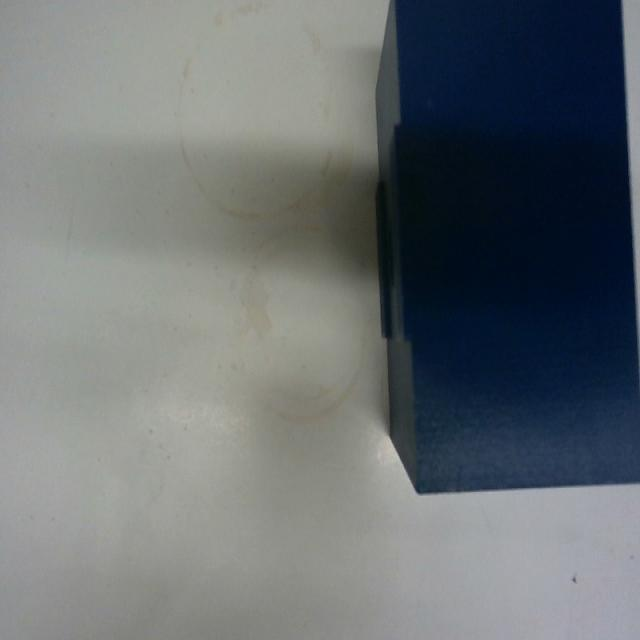Blue Cuboid: (371, 0, 639, 496)
